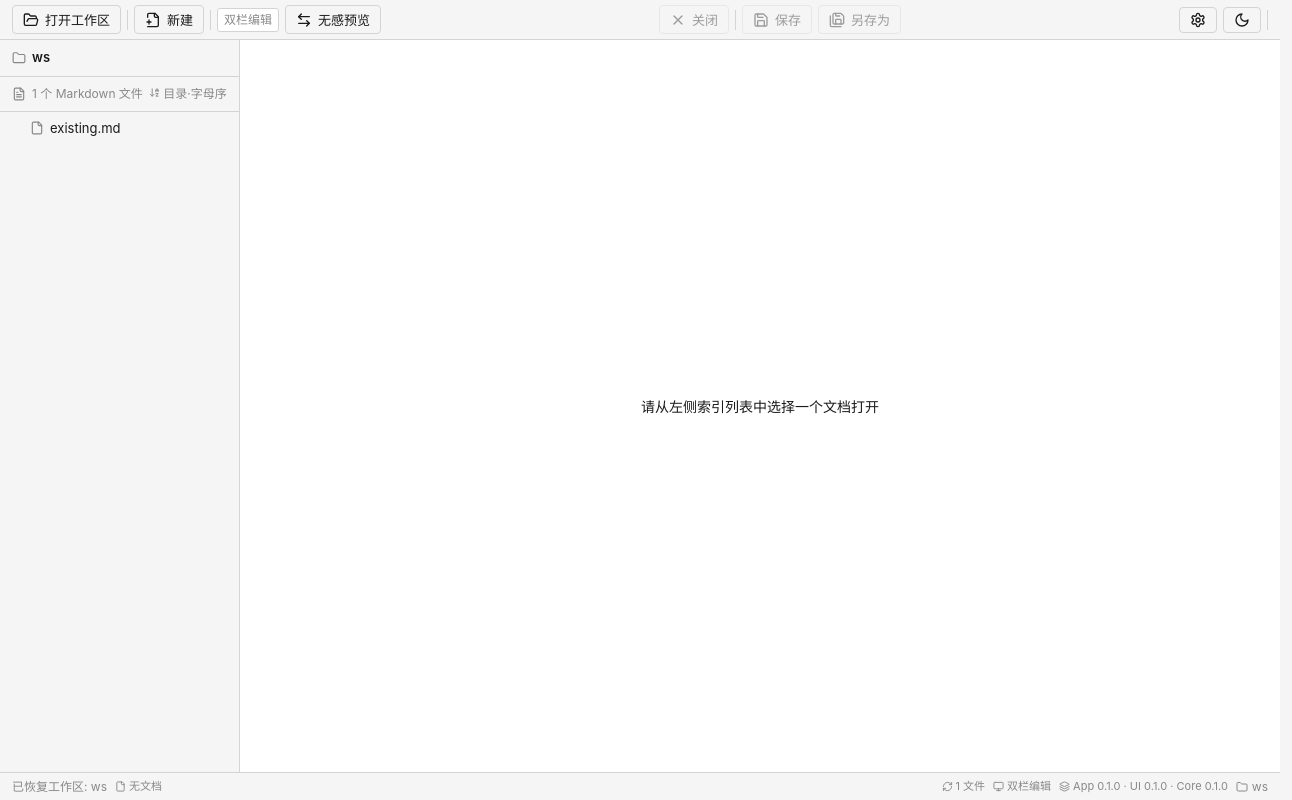
Test: App.tsx document switch (T38) › isNew → click existing file → opening skeleton visible (isOpening priority over isNew)
What coordinates should you click on to do the following:
click the button "新建"
I would click on:
 (169, 20)
Its box is [134,5,204,34].
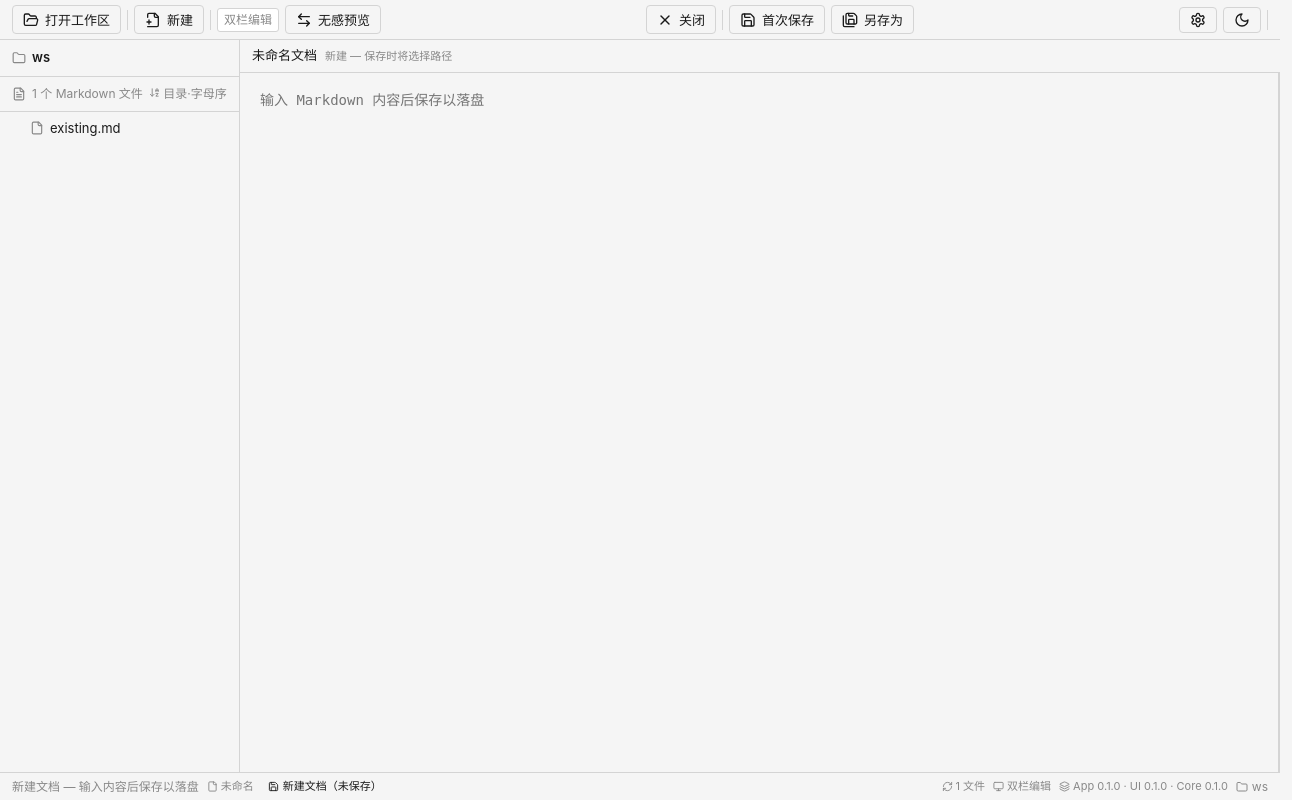
expect the text "未命名文档" is shown: met, box [252,46,317,66]
What coordinates should you click on to do the following:
click the button with class "tree-node-row--file"
I would click on:
 (75, 128)
Its box is [30,120,120,136].
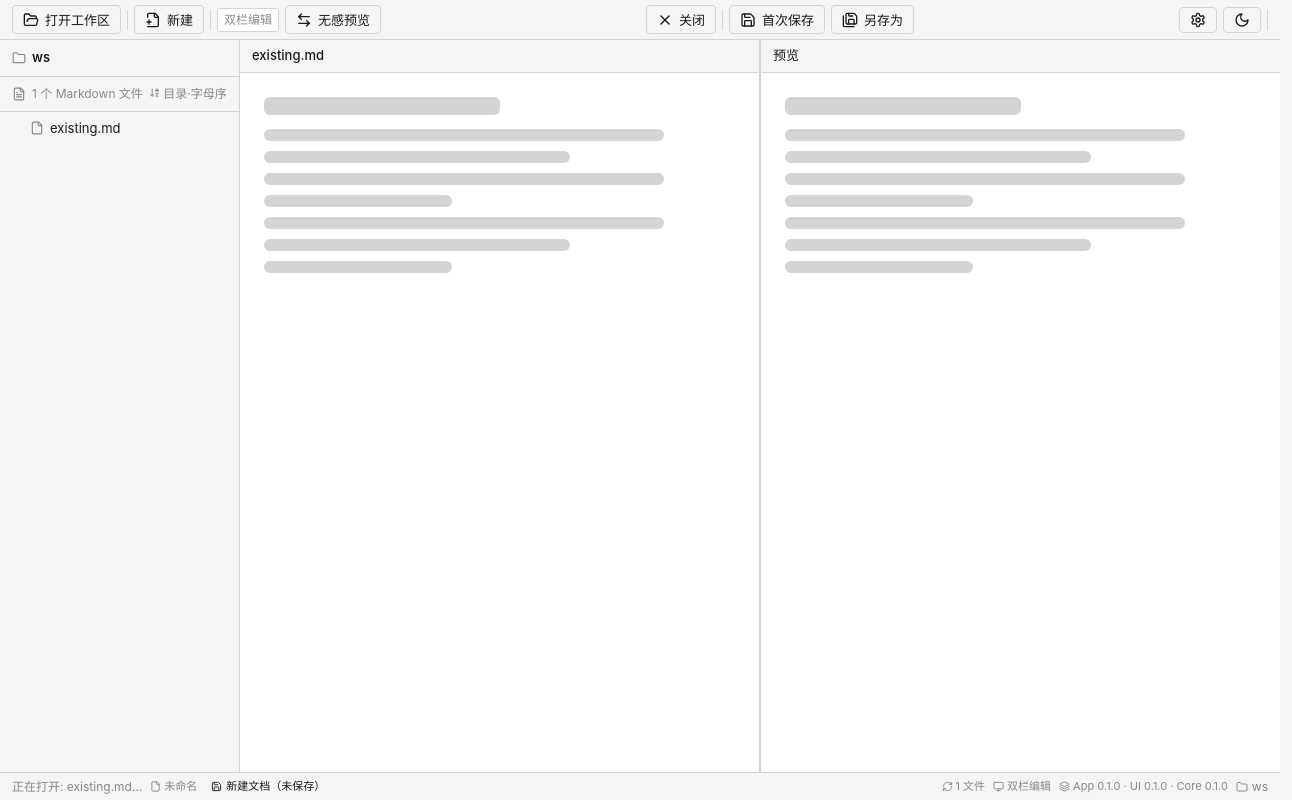
expect the 1st element with class "content-opening-skeleton" is shown: met, box [264,96,664,272]
expect the text "未命名文档" is gone: met
